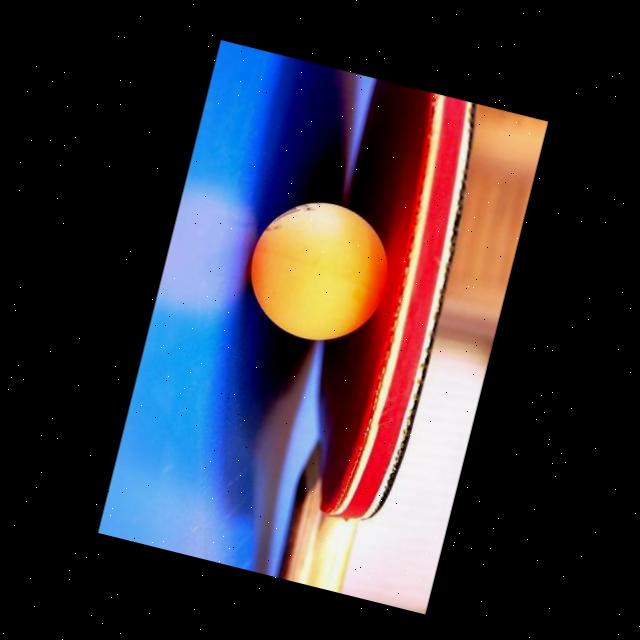ping-pong-ball: (232, 185, 406, 358)
